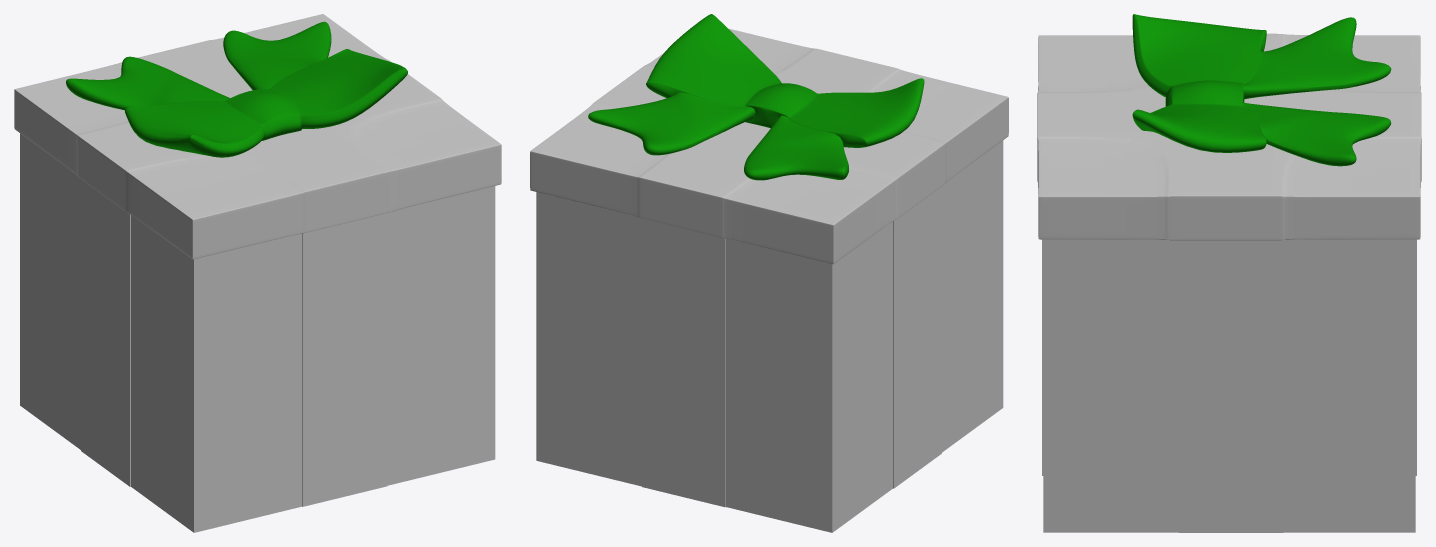
The model's file is PresenteVerde.fbx.
3 renders of one model, left to right at view 1: azimuth 30°, elevation 25°; view 2: azimuth 150°, elevation 25°; view 3: azimuth 270°, elevation 25°, orthographic. The views are drawn at different scales.
Parts seen in each view (by area): view 1: Cube.003, Plane.002, Plane.005; view 2: Cube.003, Plane.002, Plane.005; view 3: Cube.003, Plane.002, Plane.005.
Part boxes in pixels (x1,y1,x2,y2): Cube.003: [20, 133, 495, 532]; Plane.002: [14, 14, 501, 259]; Plane.005: [66, 21, 407, 157]; Cube.003: [536, 140, 1003, 532]; Plane.002: [530, 28, 1008, 264]; Plane.005: [588, 14, 924, 180]; Cube.003: [1042, 239, 1416, 532]; Plane.002: [1037, 33, 1421, 240]; Plane.005: [1132, 14, 1391, 166].
Bounding box in the file's own units: 206 × 206 × 235.
